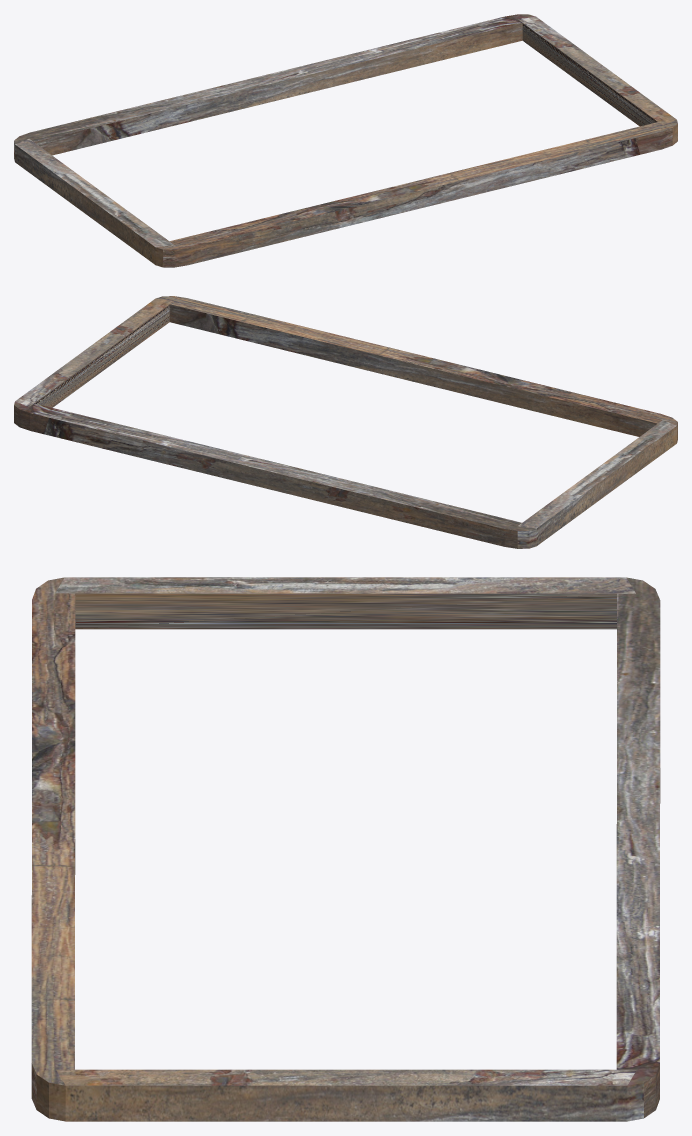
File: blendergltfFrame.gltf
3 views of the same model, one above another, from view 1: azimuth 30°, elevation 25°; view 2: azimuth 150°, elevation 25°; view 3: azimuth 270°, elevation 25° (orthographic). The views are drawn at different scales.
Visible parts, largest first — view 1: 立方体.002; view 2: 立方体.002; view 3: 立方体.002.
Part boxes in pixels (x1=…): 立方体.002: x1=14, y1=14, x2=677, y2=267; 立方体.002: x1=14, y1=296, x2=677, y2=548; 立方体.002: x1=31, y1=577, x2=660, y2=1121.
Size of the model in its own units: 1.19 by 0.0395 by 0.6218.
1 material, 1 textured.
